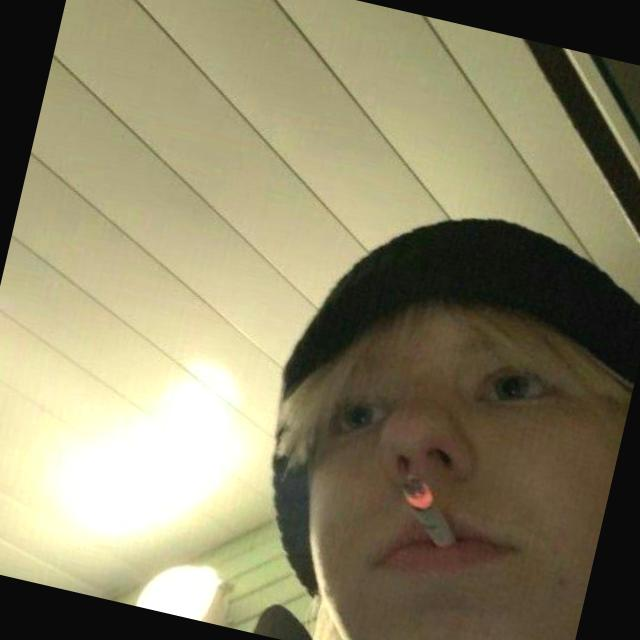cigarette: (367, 449, 492, 582)
